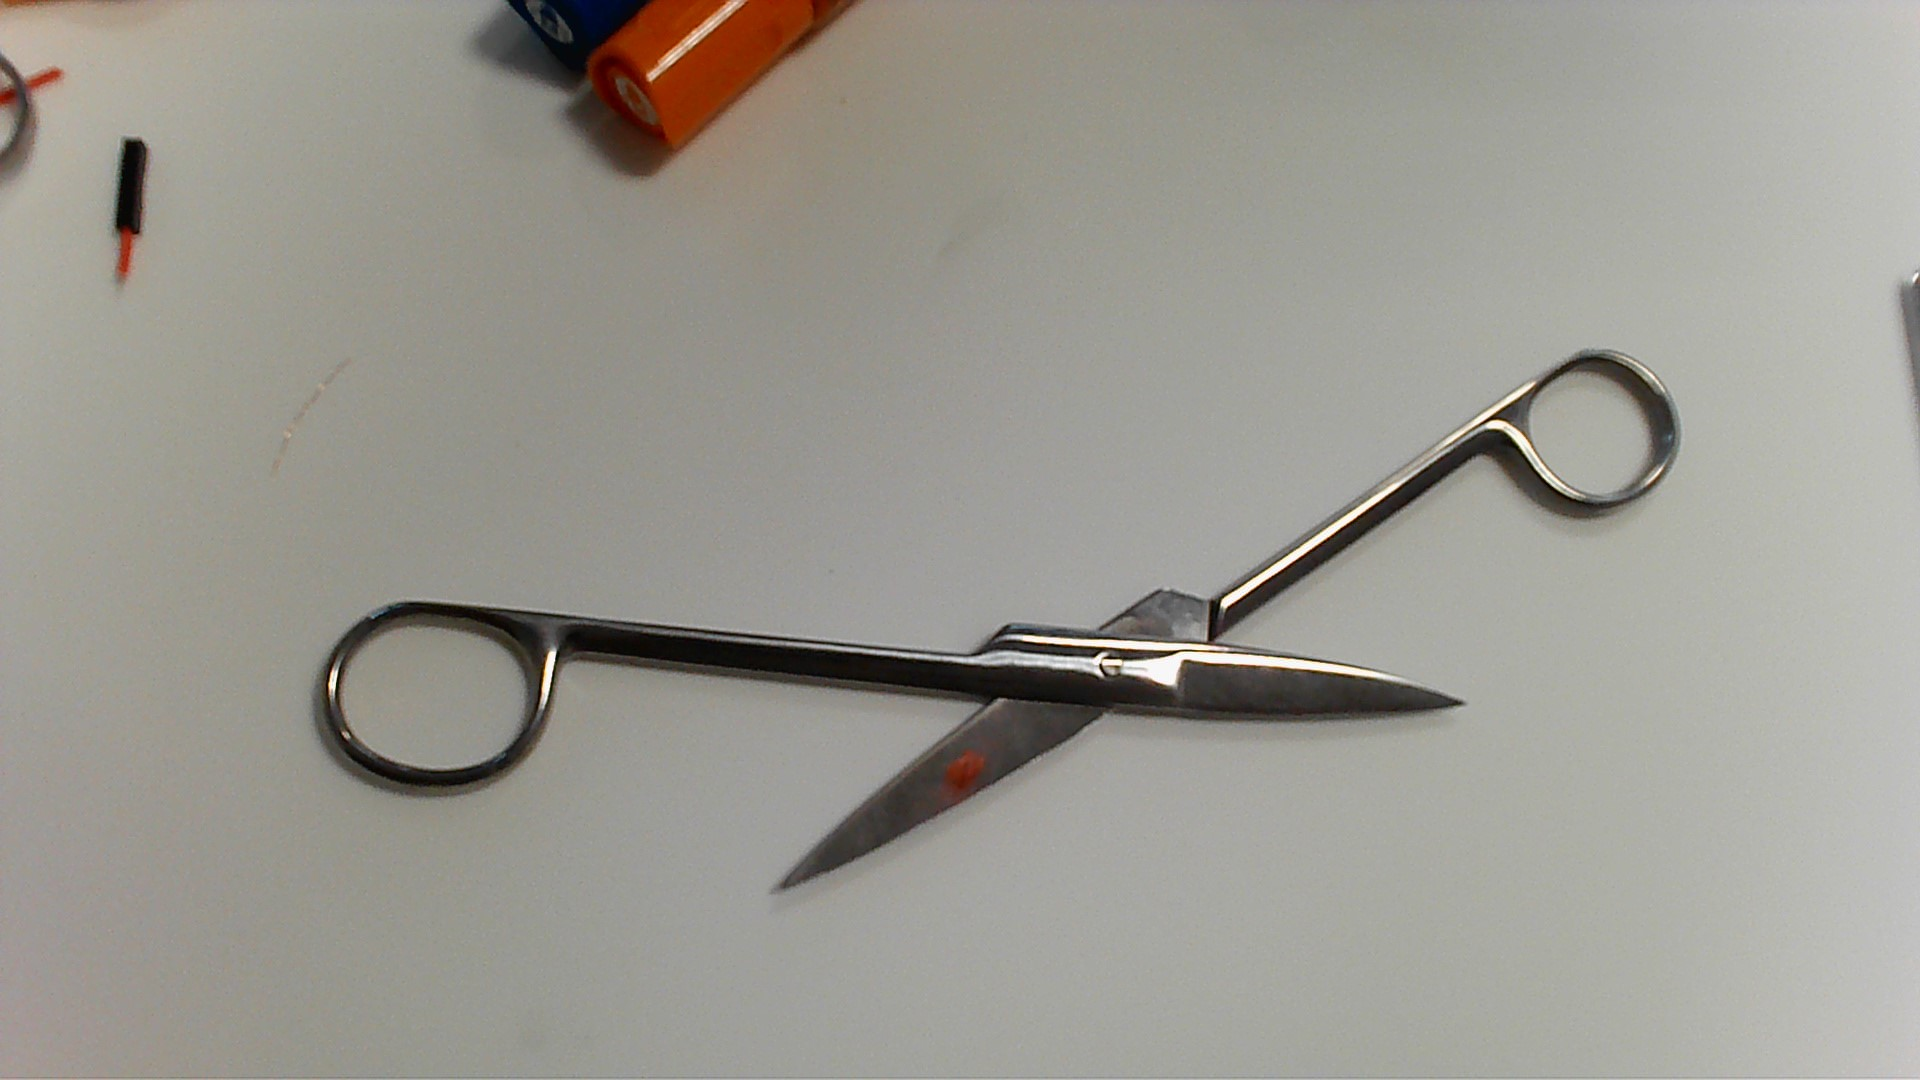Stain: (934, 741, 994, 806)
